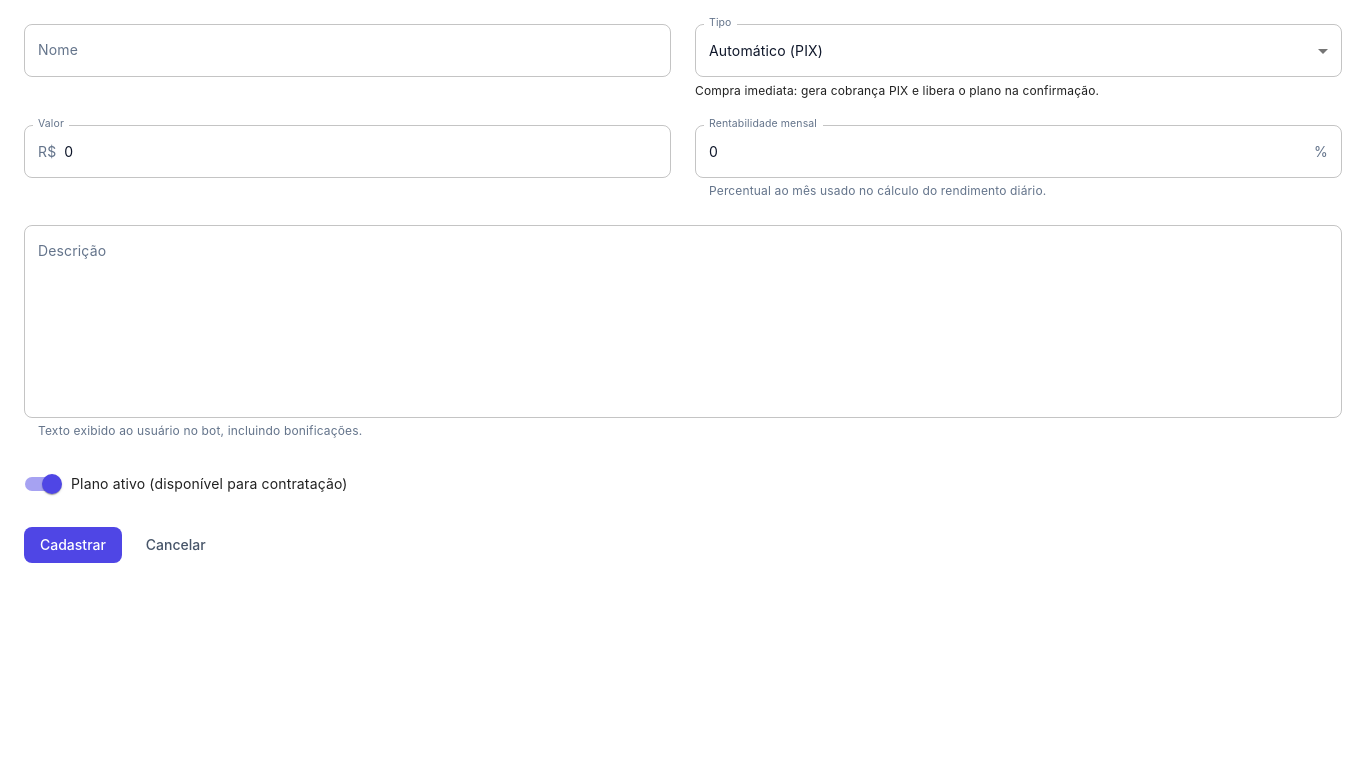
PlanForm › explica o comportamento do tipo MANUAL ao selecioná-lo
This screenshot has width=1366, height=768.
Click the dropdown named "Tipo". click: (766, 50)
box: x1=709 y1=42 x2=823 y2=58
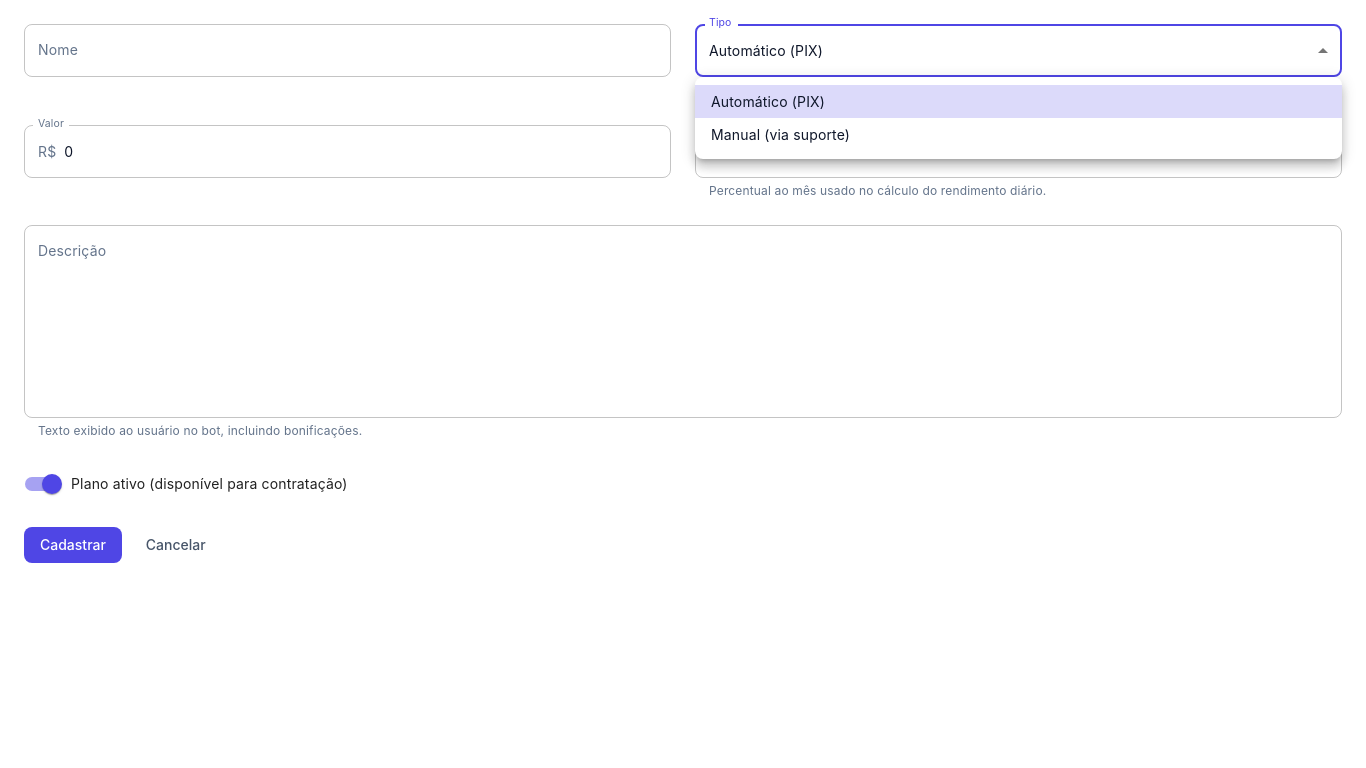
Click the option "Manual (via suporte)". click: (781, 134)
box: x1=711 y1=126 x2=850 y2=143
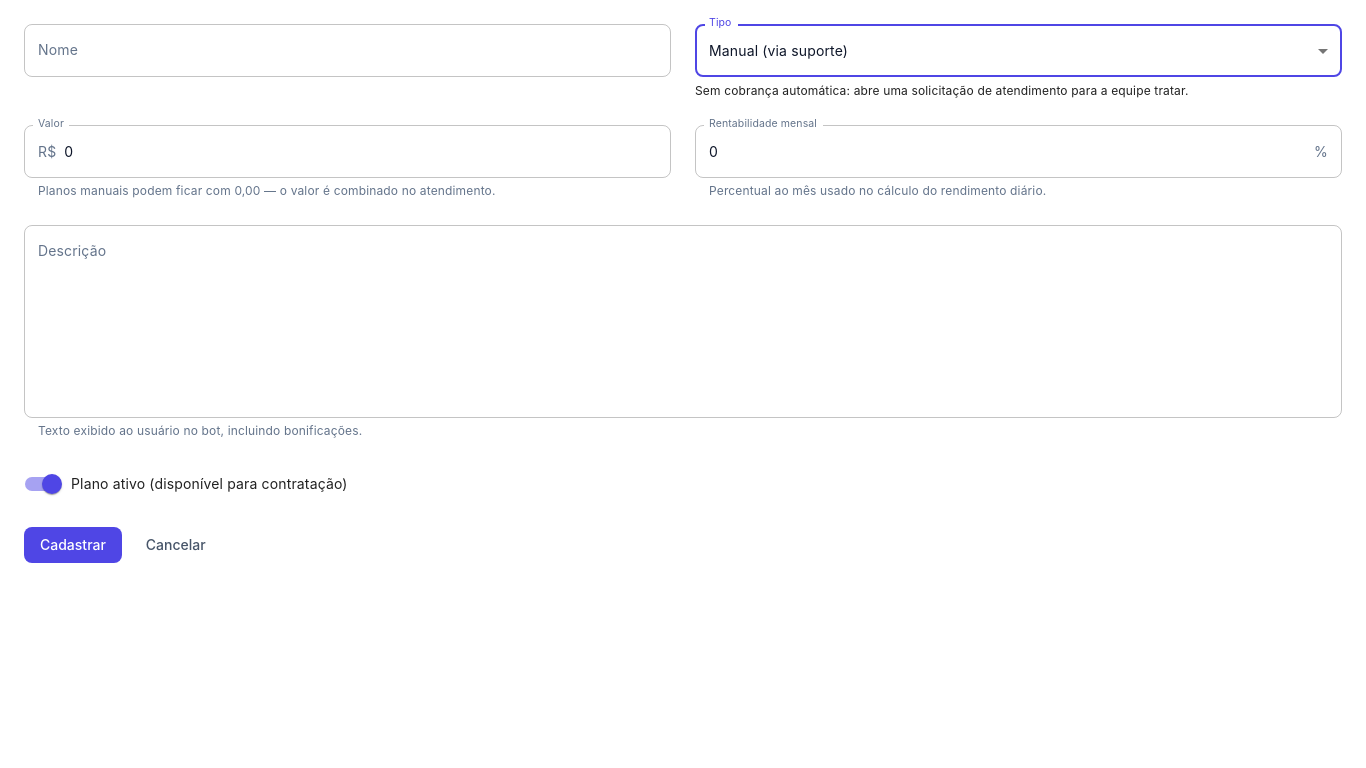
Check: the text "abre uma solicitação de atendimento" is shown, box x1=695 y1=83 x2=1188 y2=98
